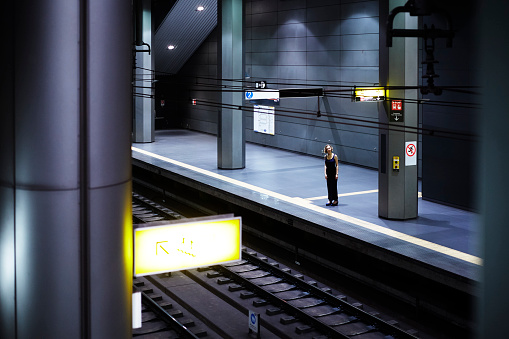em pe: (313, 135, 338, 205)
